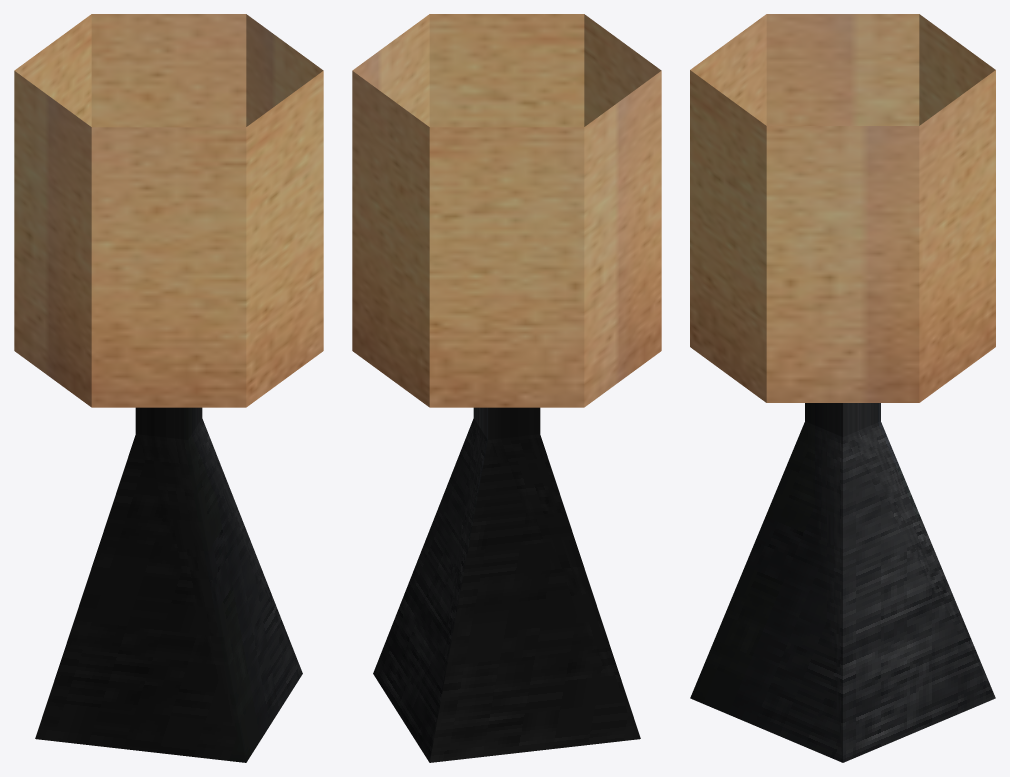
The model's file is lamp.glb.
3 views of the same model, side by side, from view 1: azimuth 30°, elevation 25°; view 2: azimuth 150°, elevation 25°; view 3: azimuth 270°, elevation 25° (orthographic).
Visible parts, largest first — view 1: lamp; view 2: lamp; view 3: lamp.
Part boxes in pixels (bbox=[...]): lamp: bbox=[14, 14, 323, 762]; lamp: bbox=[352, 14, 661, 762]; lamp: bbox=[690, 14, 995, 762].
Bounding box in the file's own units: 2 × 4.54 × 2.
Materials: 2 (2 with a texture image).
